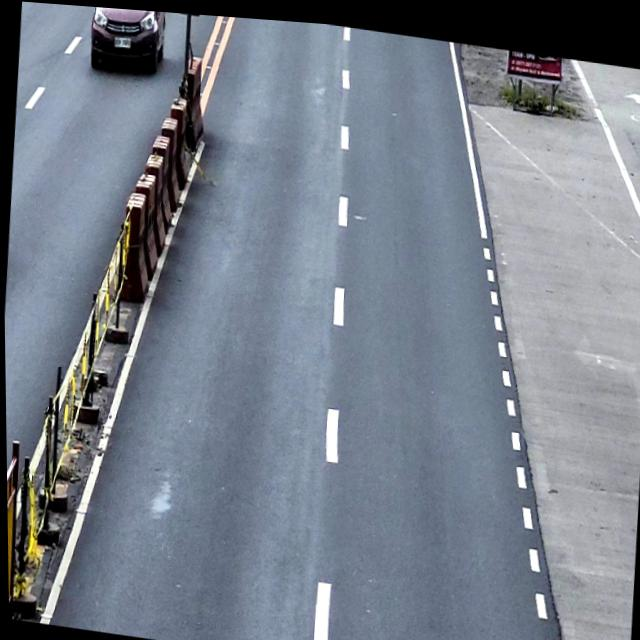Car: (85, 5, 167, 76)
License-Plate: (112, 32, 131, 48)
